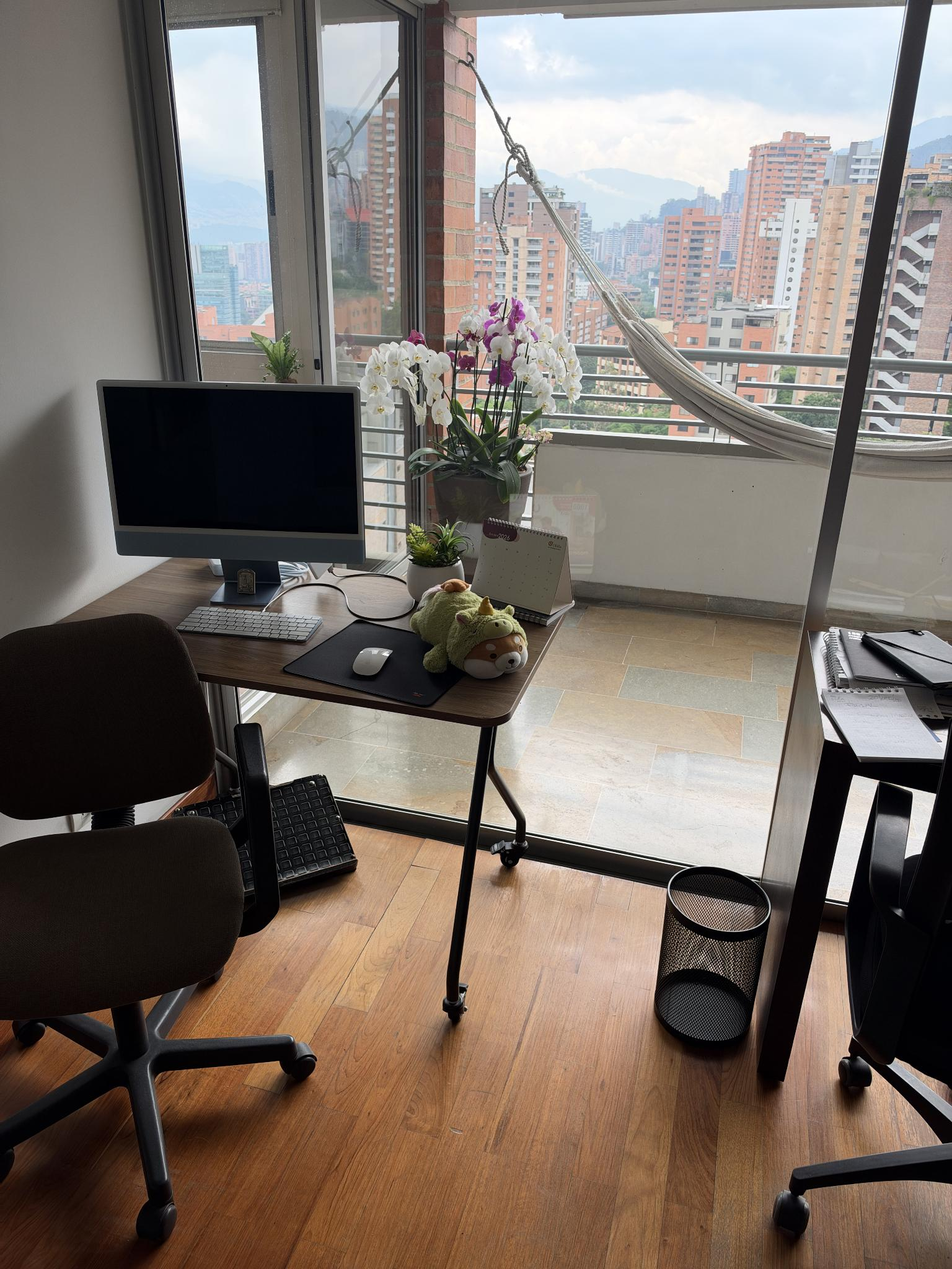peluche_martin: (409, 578, 529, 681)
